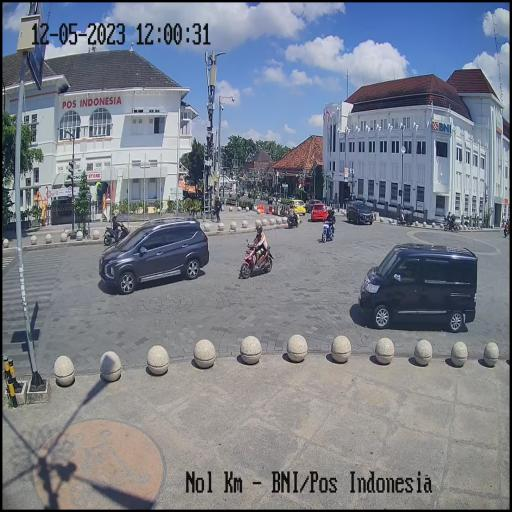mobil: (357, 240, 477, 332), (98, 213, 210, 294)
motor: (238, 234, 276, 281), (100, 220, 129, 243)
